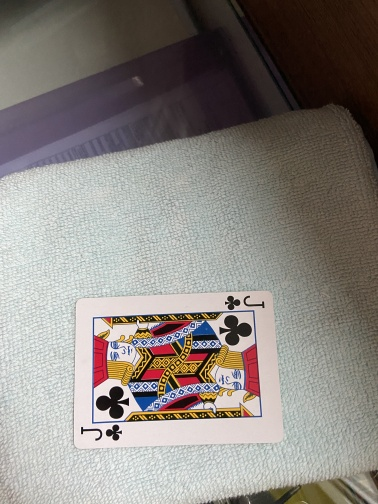jack: (71, 288, 284, 451)
